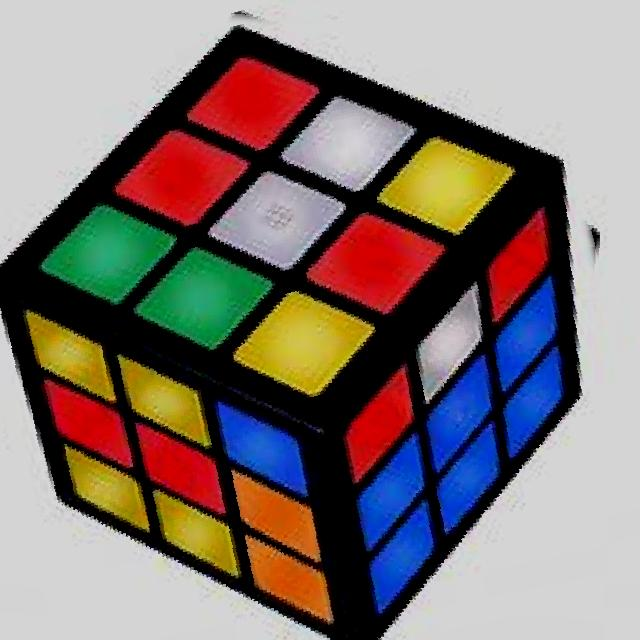cube: (1, 21, 583, 637)
